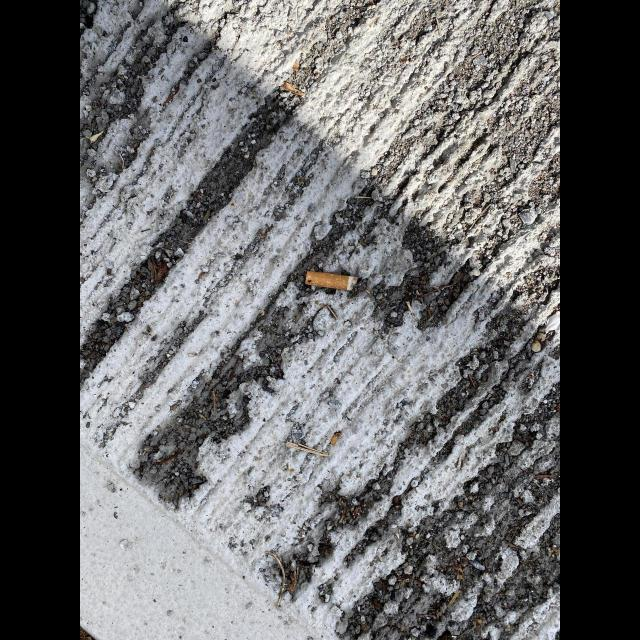cigarette: (306, 271, 362, 291)
